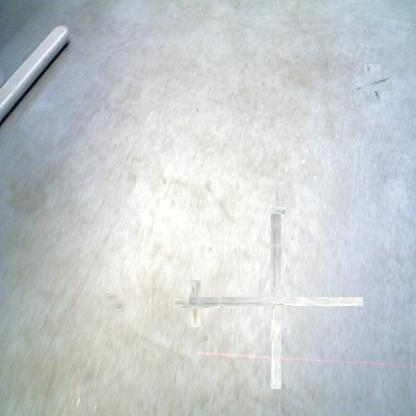liquid: (230, 255, 322, 348), (234, 1, 240, 9)
mark: (206, 179, 238, 222), (182, 289, 211, 318), (360, 70, 387, 96), (105, 292, 124, 310), (275, 206, 284, 216), (194, 105, 199, 113)
